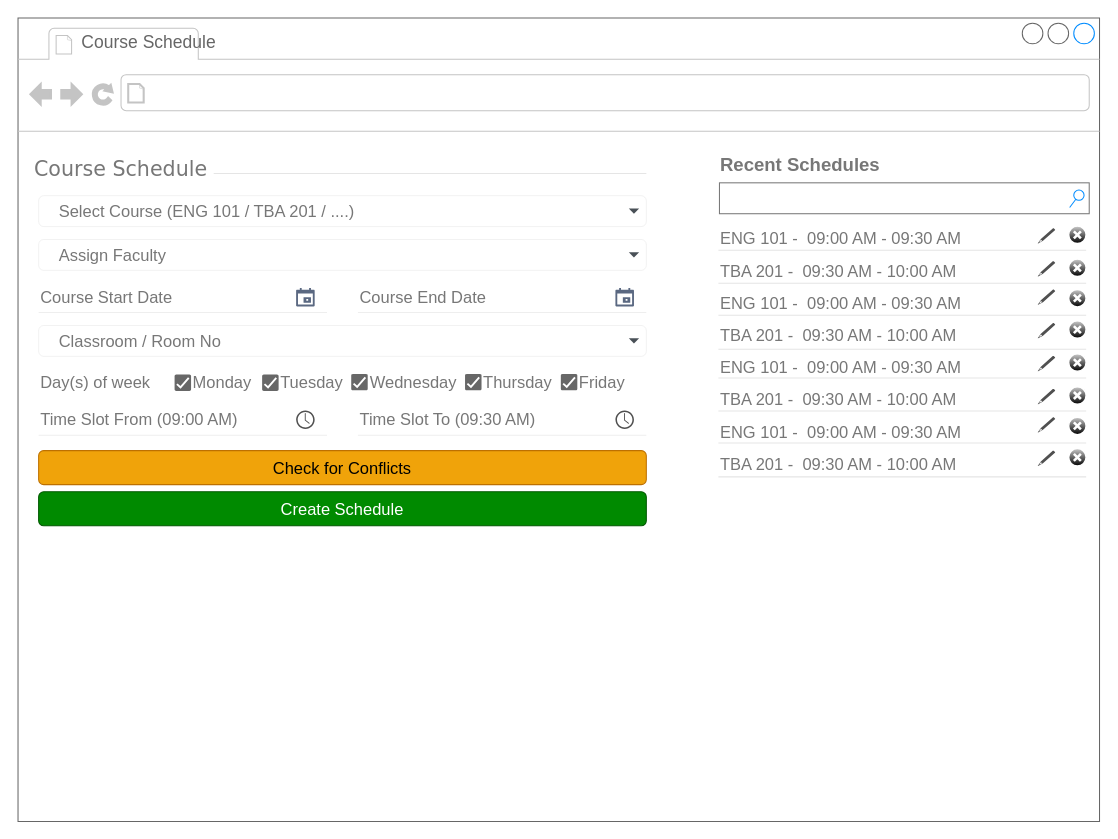
This 1118x839 diagram has some shape labels left out. The centre of each missing label's shape, as x and y in pixels:
"https://www.default.com" belongs at [280,93].
"Search" belongs at [903,198].
